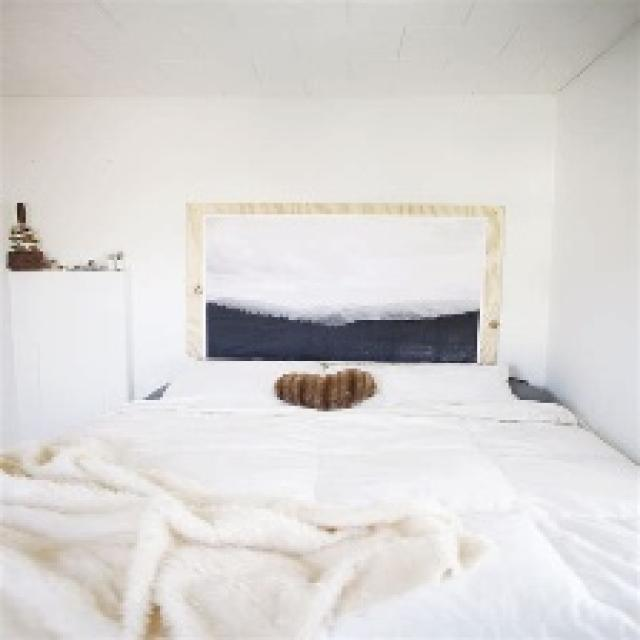Bed: (0, 200, 637, 637)
